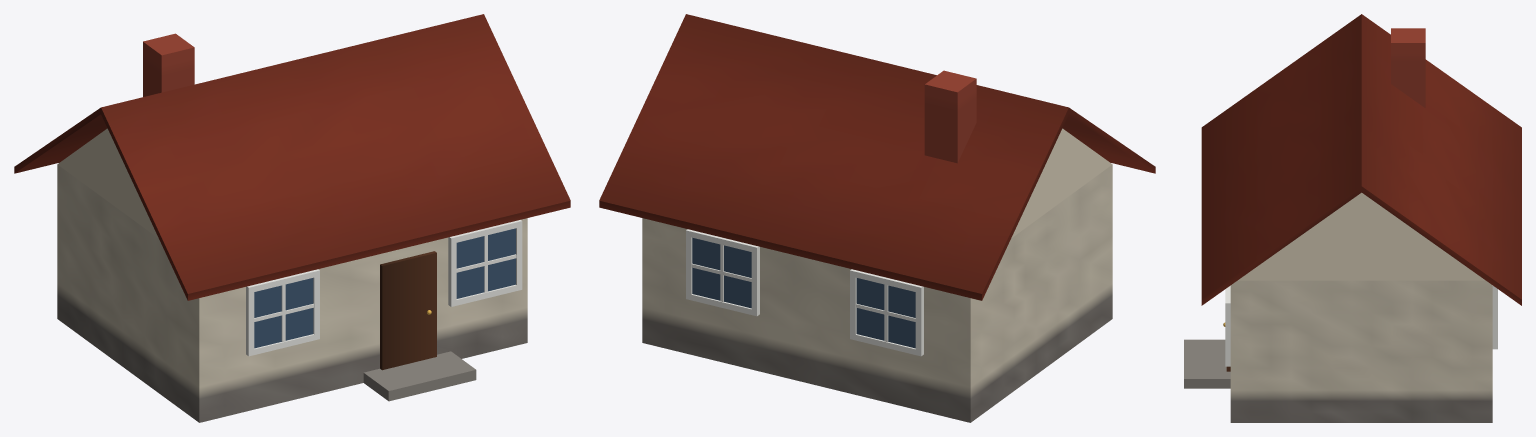
File: House.glb
3 views of the same model, side by side, from view 1: azimuth 30°, elevation 25°; view 2: azimuth 150°, elevation 25°; view 3: azimuth 270°, elevation 25° (orthographic). The views are drawn at different scales.
Parts seen in each view (by area): view 1: Roof, Walls, Windows, Door, Frames, Gables, Step, Chimney; view 2: Roof, Walls, Windows, Frames, Chimney, Gables; view 3: Roof, Walls, Gables, Chimney, Step, Frames.
Boxes of the visible parts, bbox=[...] form: Roof: bbox=[14, 14, 570, 300]; Walls: bbox=[57, 164, 527, 422]; Windows: bbox=[254, 228, 515, 348]; Door: bbox=[380, 251, 436, 370]; Frames: bbox=[246, 220, 522, 356]; Gables: bbox=[57, 128, 158, 238]; Step: bbox=[363, 351, 476, 401]; Chimney: bbox=[143, 33, 194, 96]; Roof: bbox=[599, 14, 1155, 300]; Walls: bbox=[642, 164, 1112, 422]; Windows: bbox=[692, 237, 915, 348]; Frames: bbox=[686, 229, 923, 356]; Chimney: bbox=[924, 70, 976, 163]; Gables: bbox=[1011, 128, 1112, 238]; Roof: bbox=[1201, 14, 1521, 305]; Walls: bbox=[1230, 280, 1492, 422]; Gables: bbox=[1238, 192, 1485, 280]; Chimney: bbox=[1391, 28, 1425, 107]; Step: bbox=[1184, 339, 1230, 388]; Frames: bbox=[1225, 285, 1497, 366].
Size of the model in its own units: 7 by 5.1 by 5.8.
